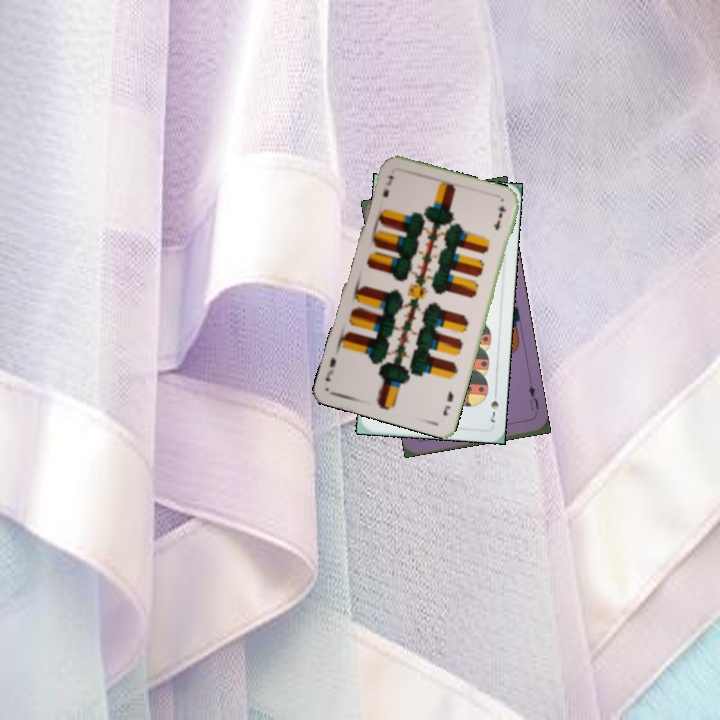E7: (439, 387, 456, 418), (379, 171, 396, 200)
EU: (525, 381, 541, 413)
S7: (486, 386, 501, 425)
